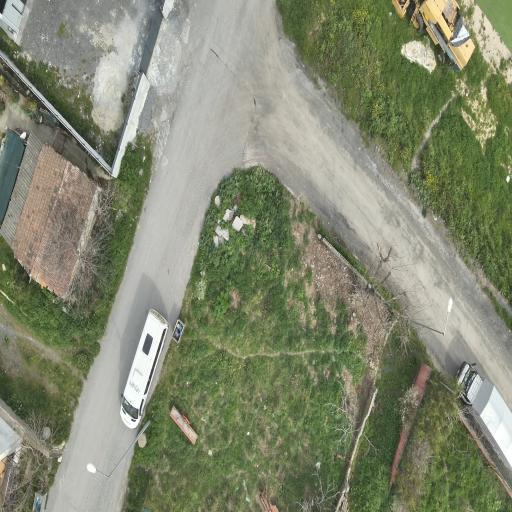harvester: (411, 0, 474, 70)
truck: (457, 362, 511, 470)
